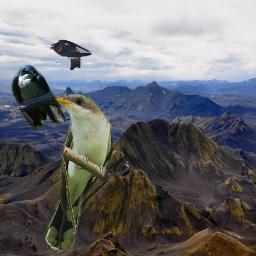Cuckoo: (45, 94, 114, 251)
Swallow: (10, 63, 68, 133), (50, 39, 92, 70)
